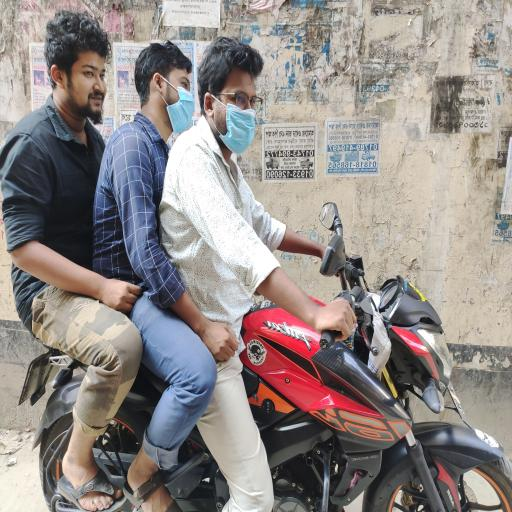overloading: (18, 202, 510, 510)
